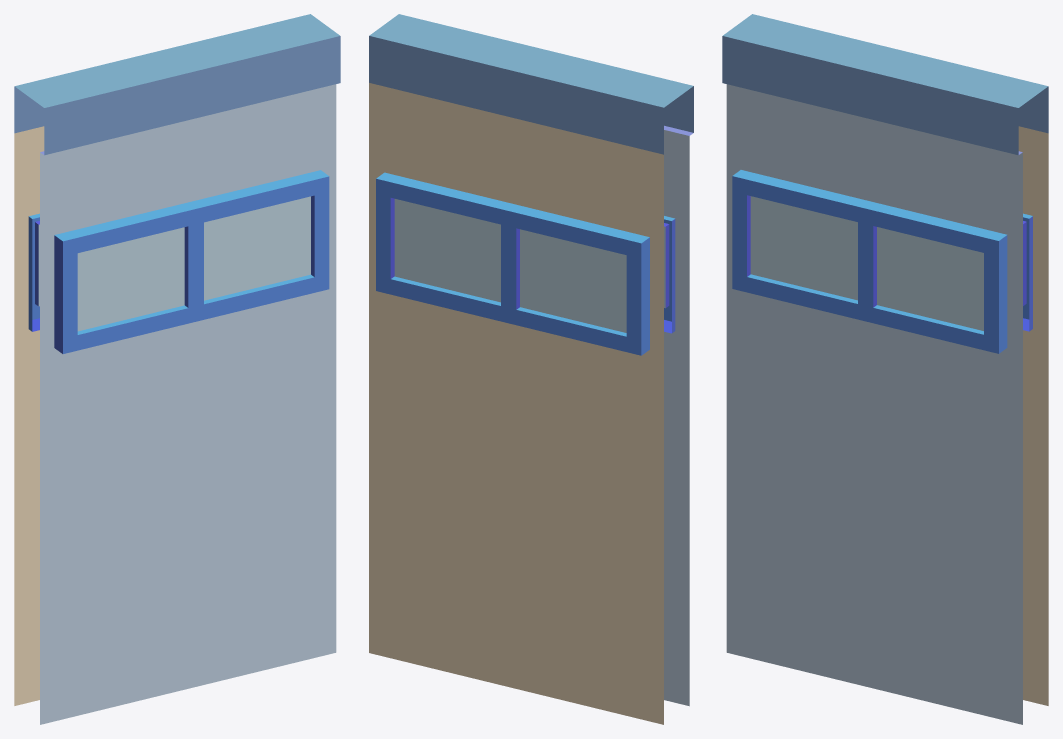
The model's file is window_outside.fbx.
3 views of the same model, side by side, from view 1: azimuth 30°, elevation 25°; view 2: azimuth 150°, elevation 25°; view 3: azimuth 330°, elevation 25° (orthographic).
Visible parts, largest first — view 1: window_outside; view 2: window_outside; view 3: window_outside.
Boxes of the visible parts, <box> form: window_outside: <box>14,14,340,724</box>; window_outside: <box>369,14,693,724</box>; window_outside: <box>722,14,1048,724</box>.
Bounding box in the file's own units: 200 × 400 × 50.
